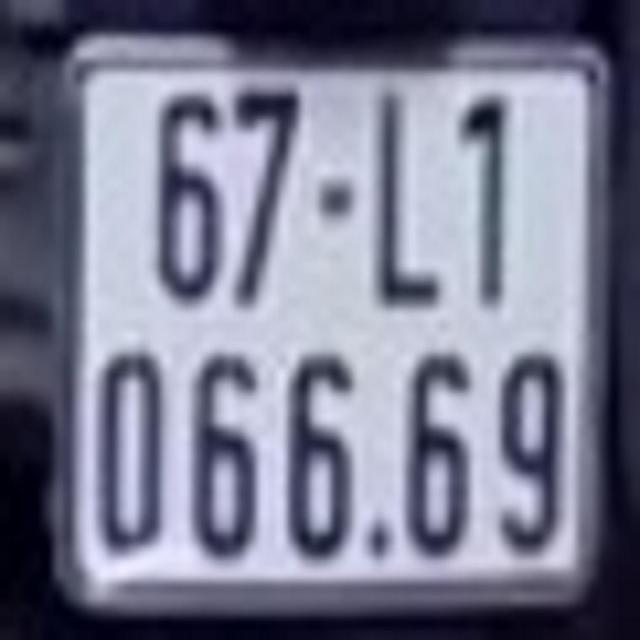0: (102, 348, 165, 546)
1: (464, 78, 504, 300)
6: (278, 348, 352, 550), (154, 87, 218, 300), (190, 352, 254, 560), (406, 352, 470, 556)
7: (232, 84, 304, 314)
9: (498, 345, 560, 561)
L: (378, 81, 447, 304)
